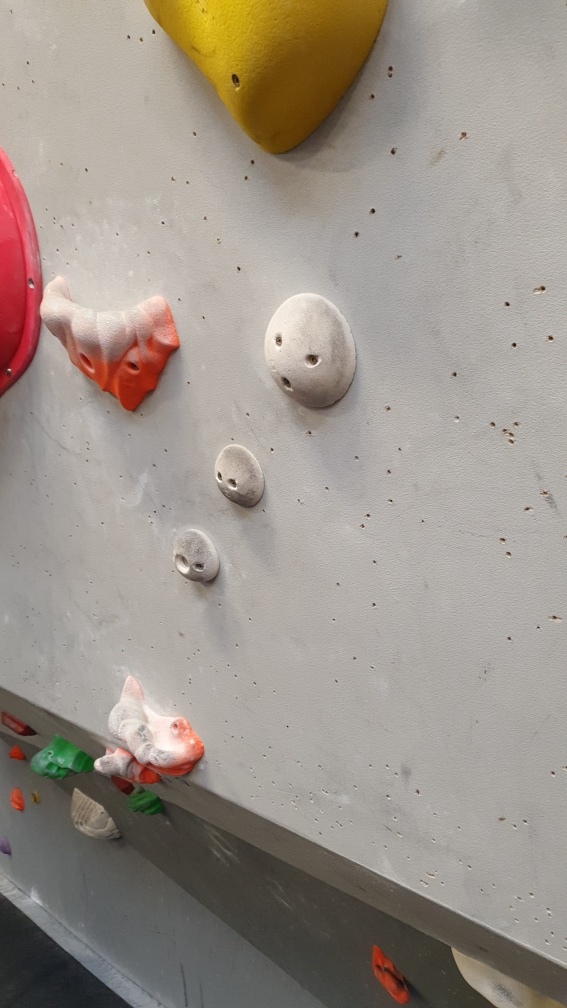Jug: (34, 273, 184, 417), (111, 670, 206, 782)
Sloper: (265, 289, 360, 412), (212, 441, 266, 511), (170, 524, 223, 587)
